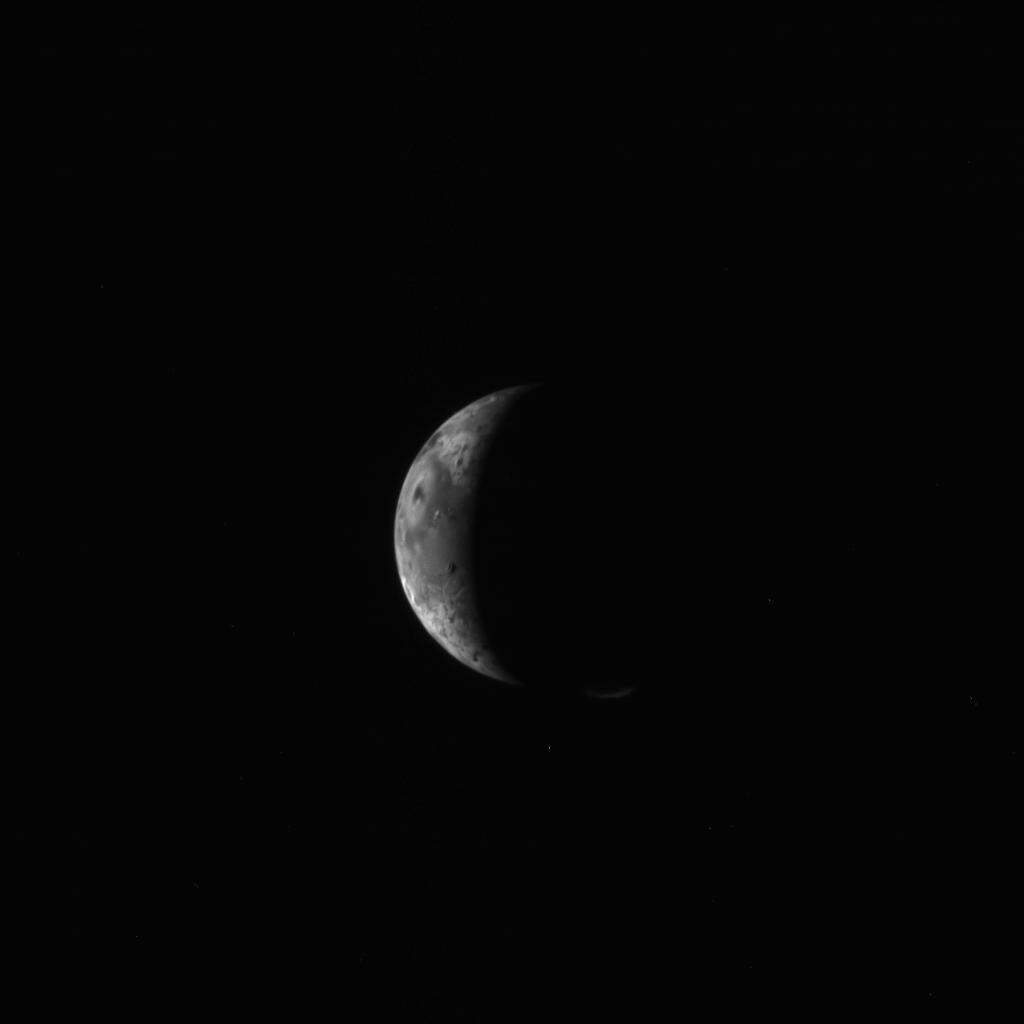plumes: (592, 688, 634, 702)
